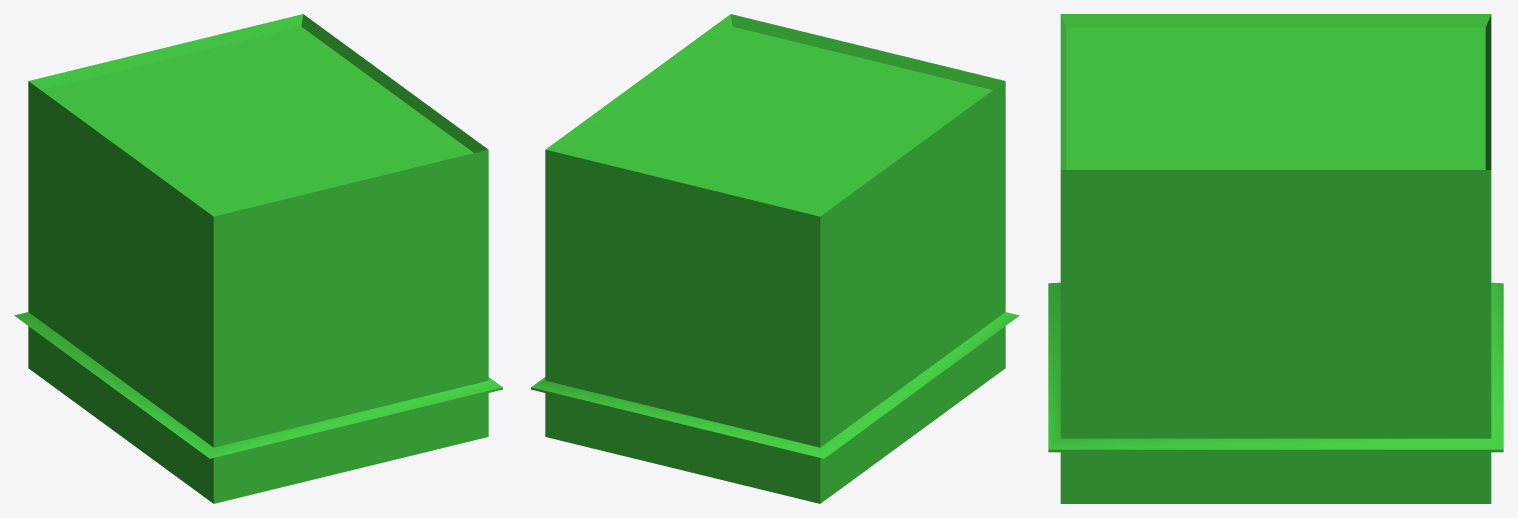
Rendered from cube.153_lev1_lev3.glb.
3 views of the same model, side by side, from view 1: azimuth 30°, elevation 25°; view 2: azimuth 150°, elevation 25°; view 3: azimuth 270°, elevation 25° (orthographic). The views are drawn at different scales.
Parts seen in each view (by area): view 1: cube.153_lev1_lev3; view 2: cube.153_lev1_lev3; view 3: cube.153_lev1_lev3.
Boxes of the visible parts, box(x1,y1,x2,y2) form: cube.153_lev1_lev3: box(14, 14, 502, 503); cube.153_lev1_lev3: box(531, 14, 1019, 503); cube.153_lev1_lev3: box(1048, 14, 1503, 503).
Bounding box in the file's own units: 9.88 × 9.25 × 11.43.
